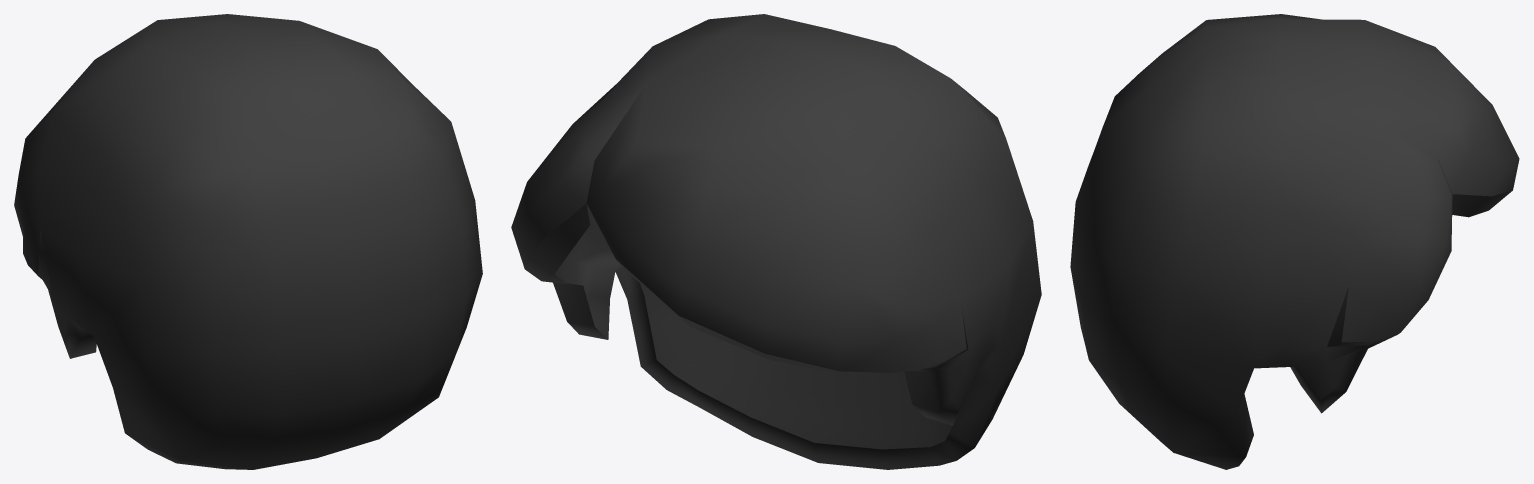
Rendered from HairMale_3.fbx.
The picture shows the model from 3 angles, left to right: view 1: azimuth 30°, elevation 25°; view 2: azimuth 150°, elevation 25°; view 3: azimuth 270°, elevation 25°; orthographic projection. The views are drawn at different scales.
Visible parts, largest first — view 1: HairMale_3; view 2: HairMale_3; view 3: HairMale_3.
Boxes of the visible parts, x1,y1,x2,y2 form: HairMale_3: (14, 14, 482, 469); HairMale_3: (511, 14, 1041, 469); HairMale_3: (1070, 14, 1519, 469).
Bounding box in the file's own units: 68.65 × 68.43 × 69.76.
